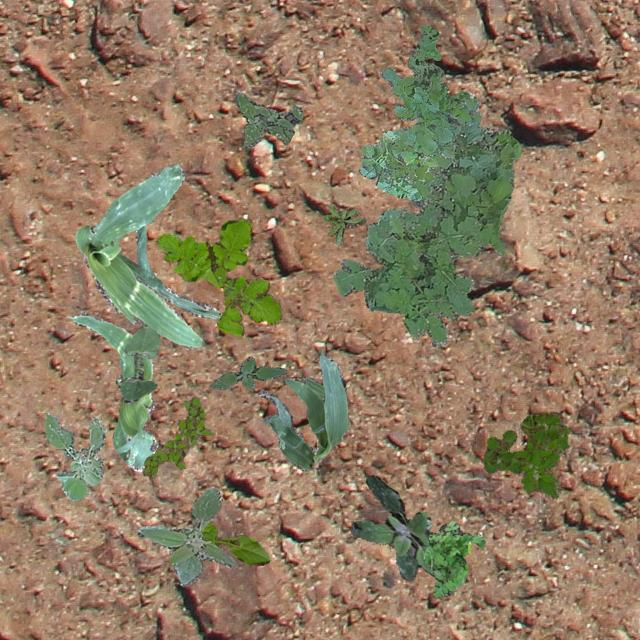crop: (74, 162, 220, 348), (66, 224, 156, 470), (255, 348, 348, 470), (120, 322, 160, 402), (200, 522, 268, 564)
weed: (332, 91, 520, 346), (358, 23, 480, 200), (154, 218, 280, 334), (136, 486, 235, 586), (349, 474, 434, 580), (482, 410, 568, 500), (142, 396, 212, 478), (44, 412, 104, 500), (422, 520, 484, 596), (232, 92, 302, 150), (208, 356, 286, 388), (322, 204, 364, 244)
